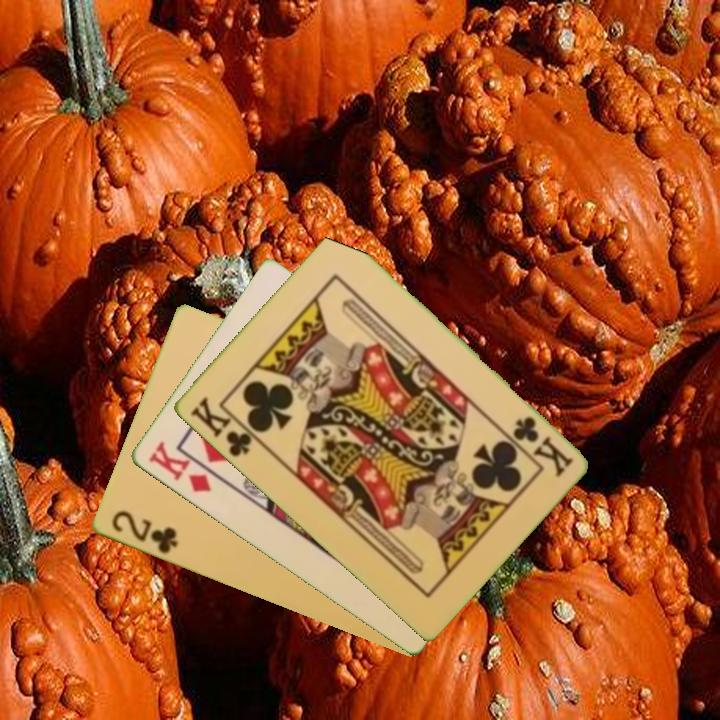2c: (107, 507, 181, 557)
Kc: (185, 393, 263, 460), (508, 412, 576, 479)
Kd: (144, 437, 214, 496)
